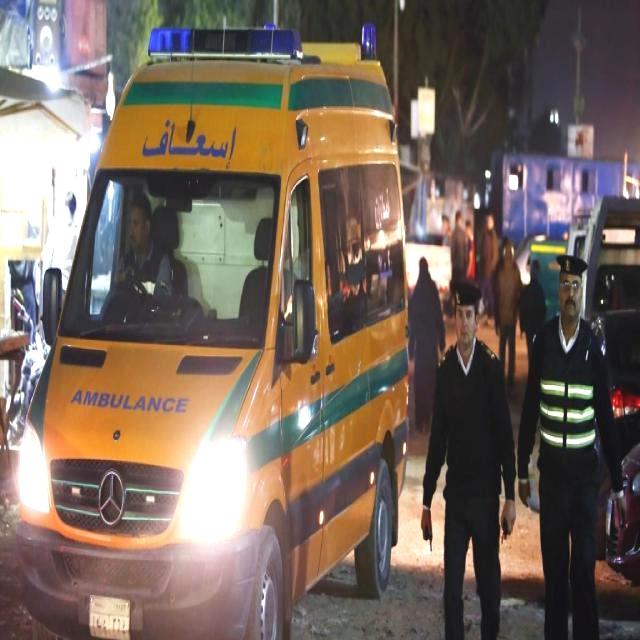Ambulance: (53, 46, 415, 640)
person: (517, 253, 627, 639), (421, 279, 517, 639), (117, 191, 175, 299)
police-car: (549, 213, 640, 321)
